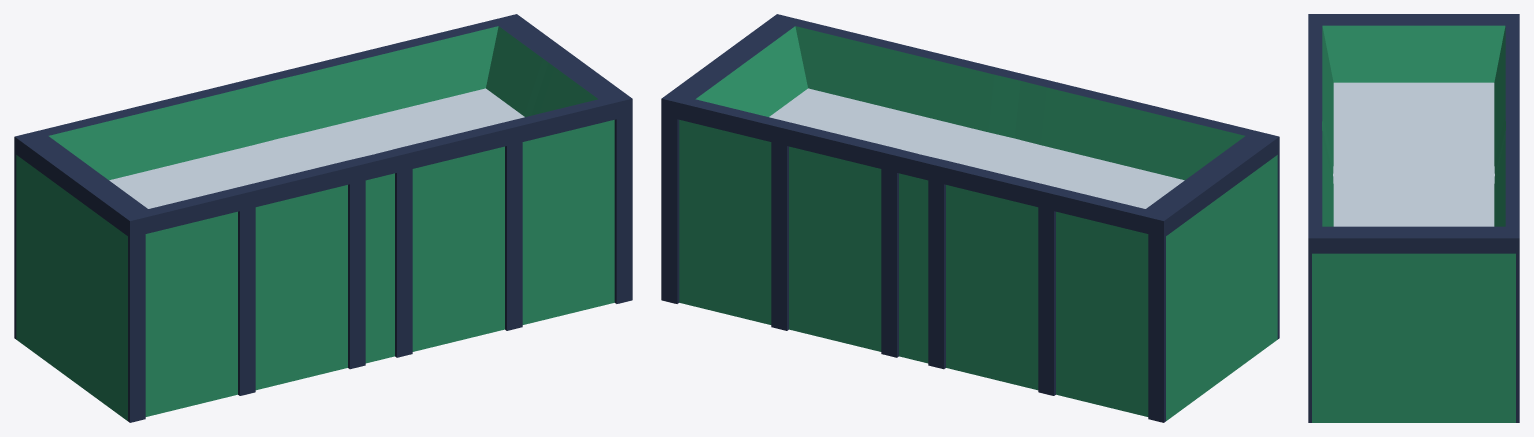
Rendered from LCargoModel04.fbx.
3 views of the same model, side by side, from view 1: azimuth 30°, elevation 25°; view 2: azimuth 150°, elevation 25°; view 3: azimuth 270°, elevation 25° (orthographic). The views are drawn at different scales.
Parts seen in each view (by area): view 1: LCargoModel04; view 2: LCargoModel04; view 3: LCargoModel04.
Part boxes in pixels (<box>): LCargoModel04: <box>14,14,632,422</box>; LCargoModel04: <box>661,14,1279,422</box>; LCargoModel04: <box>1308,14,1519,422</box>.
Bounding box in the file's own units: 731 × 280 × 291.
